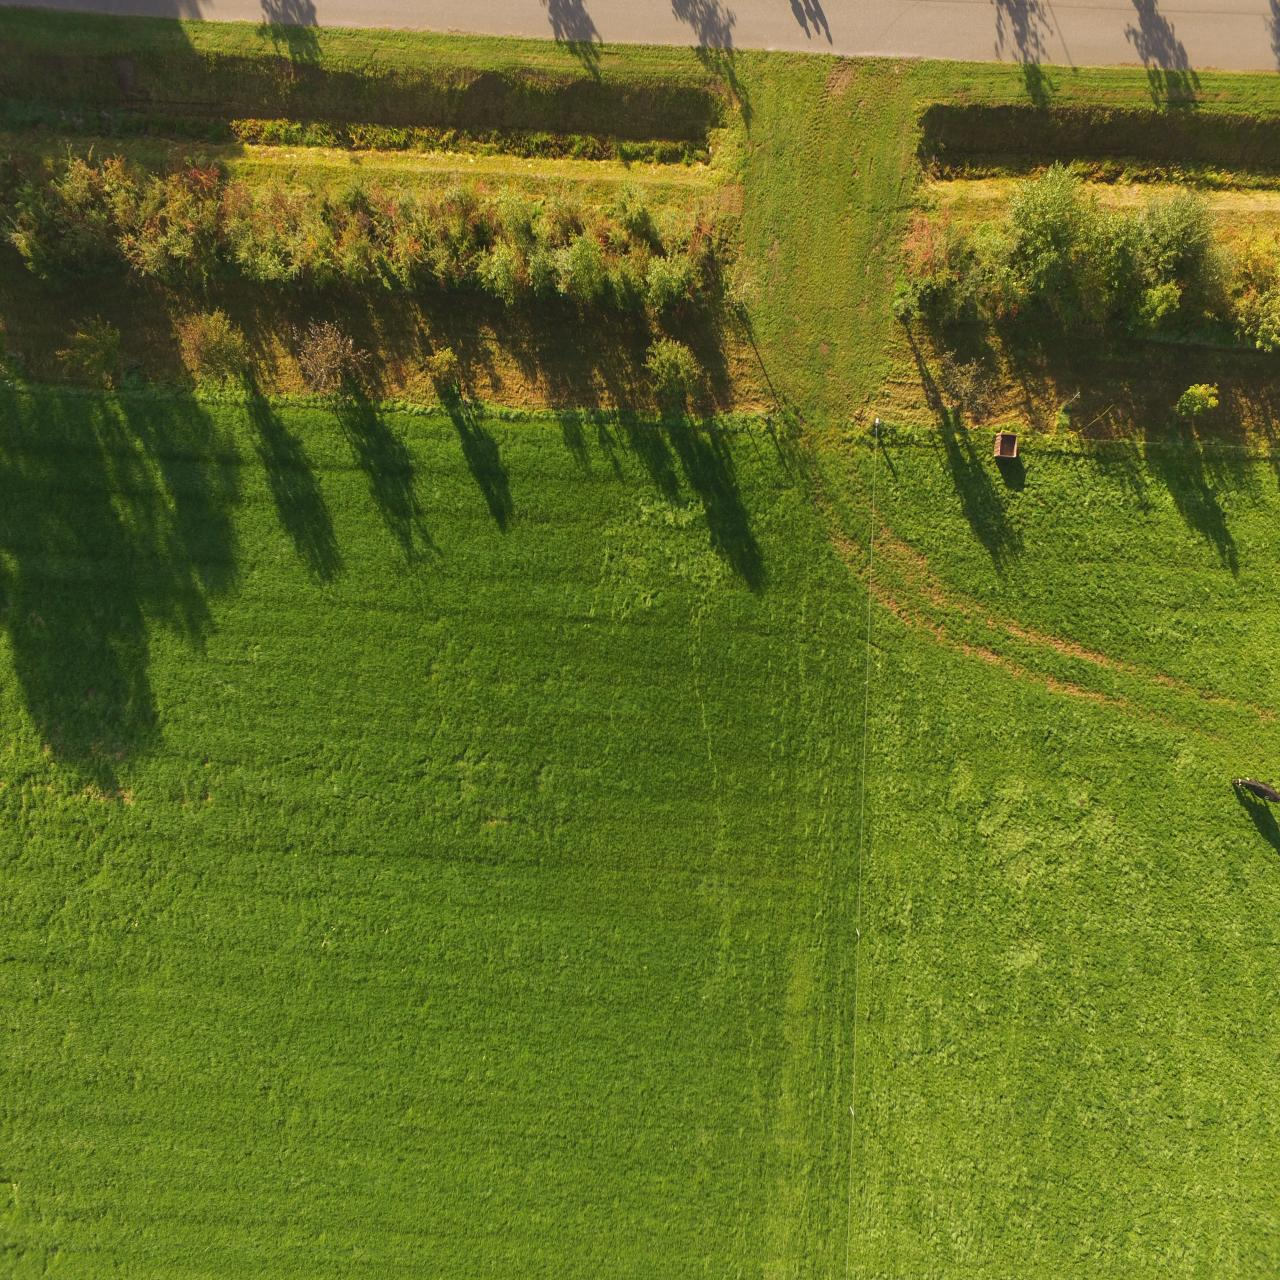cow: (1225, 764, 1280, 816)
